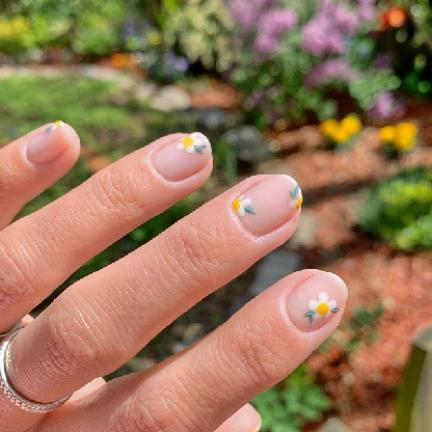Nail: (232, 175, 302, 235), (286, 272, 348, 331), (151, 132, 212, 181), (26, 123, 73, 164)
